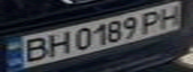0: (72, 25, 93, 52)
1: (90, 21, 112, 47)
8: (106, 17, 127, 44)
9: (118, 14, 145, 39)
B: (15, 35, 51, 64)
H: (154, 3, 187, 29), (42, 29, 72, 57)
P: (136, 8, 169, 34)
